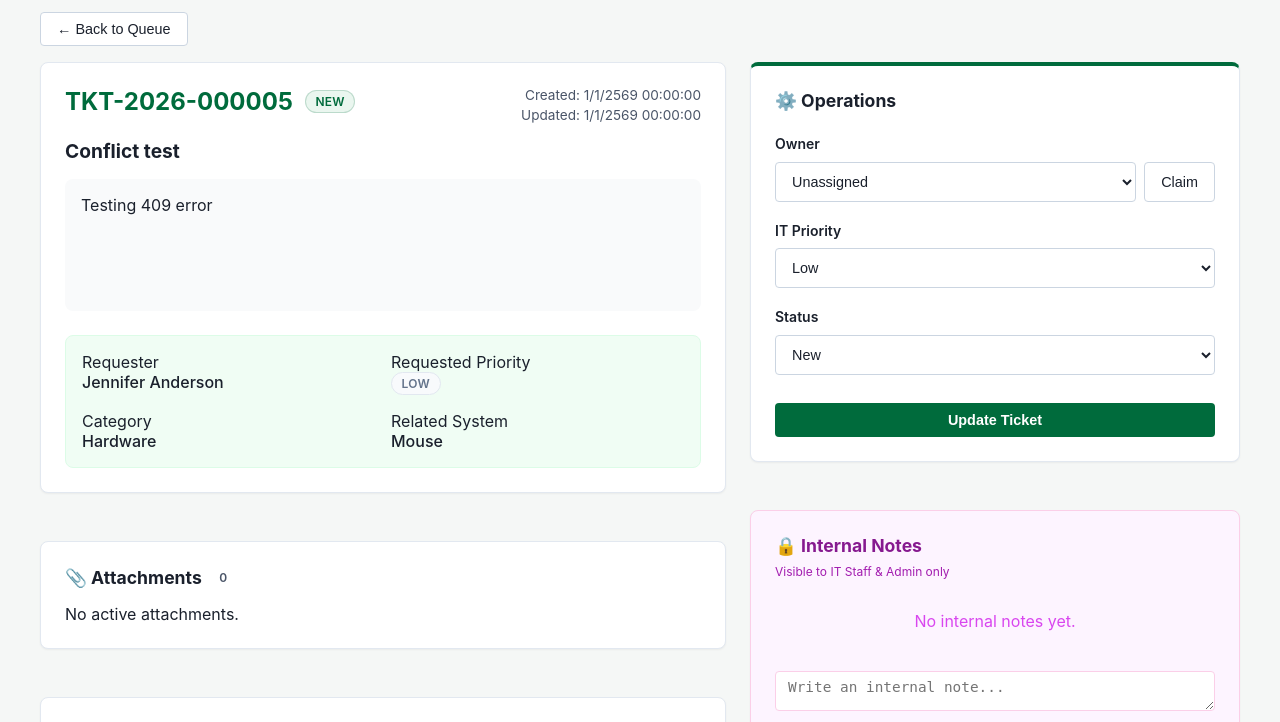
Scenario: Ticket Workflow UI Tests (UI-WF-*) › displays conflict error banner when 409 conflict is received
Select "Open" in the dropdown with test id "status-select" at (995, 355), box [775, 335, 1215, 375]
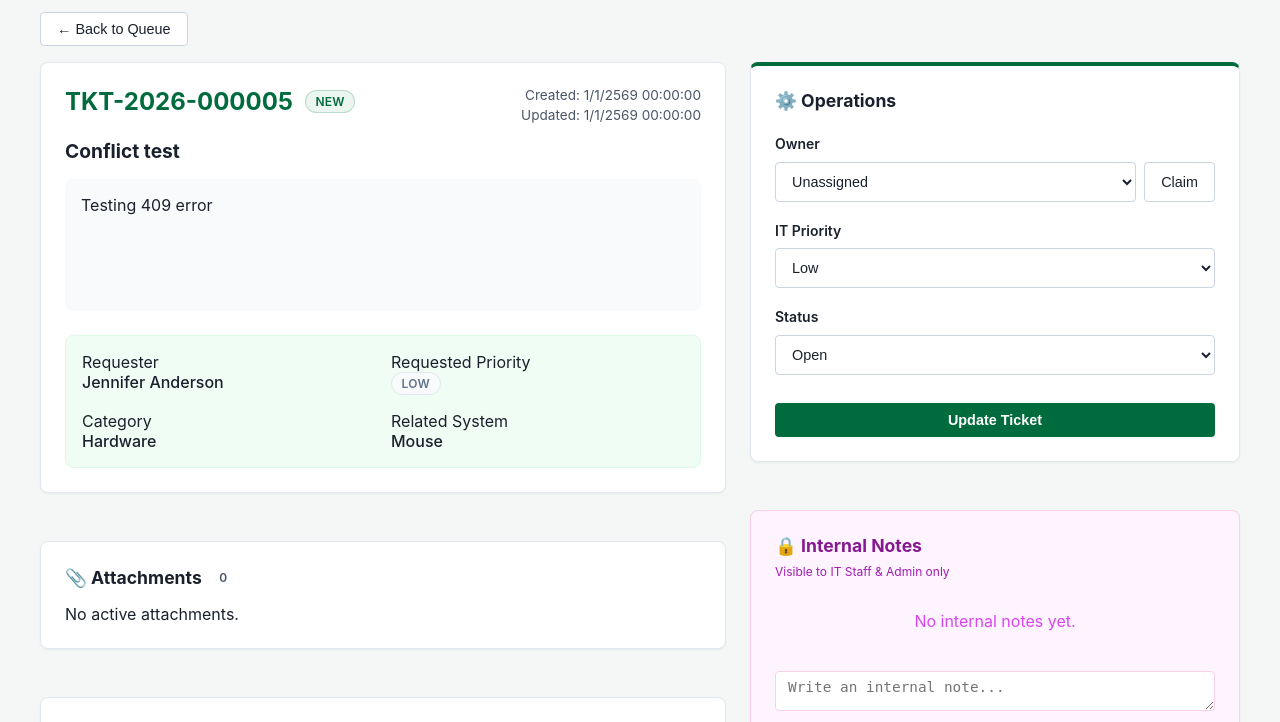
Click the button "Update Ticket" at (995, 420), box [775, 403, 1215, 437]
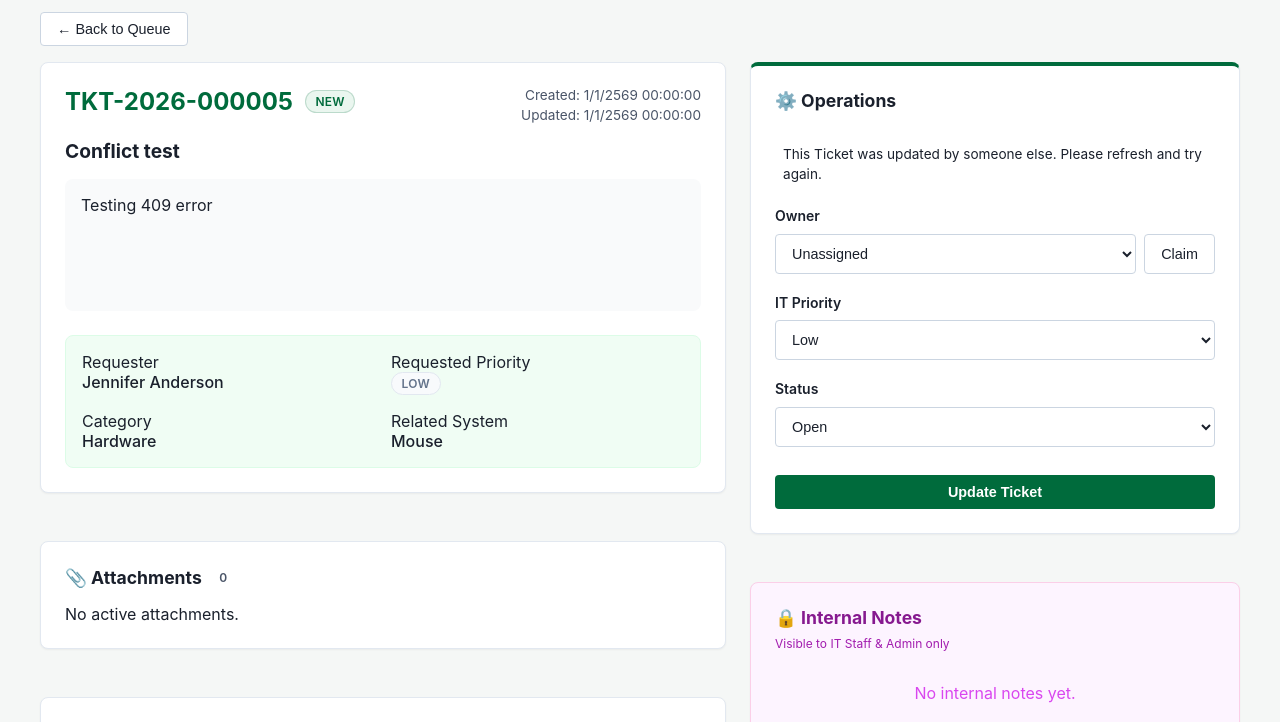
Expected: the text "This Ticket was updated by someone else. Please refresh and try again." is shown, [783, 146, 1202, 182]
